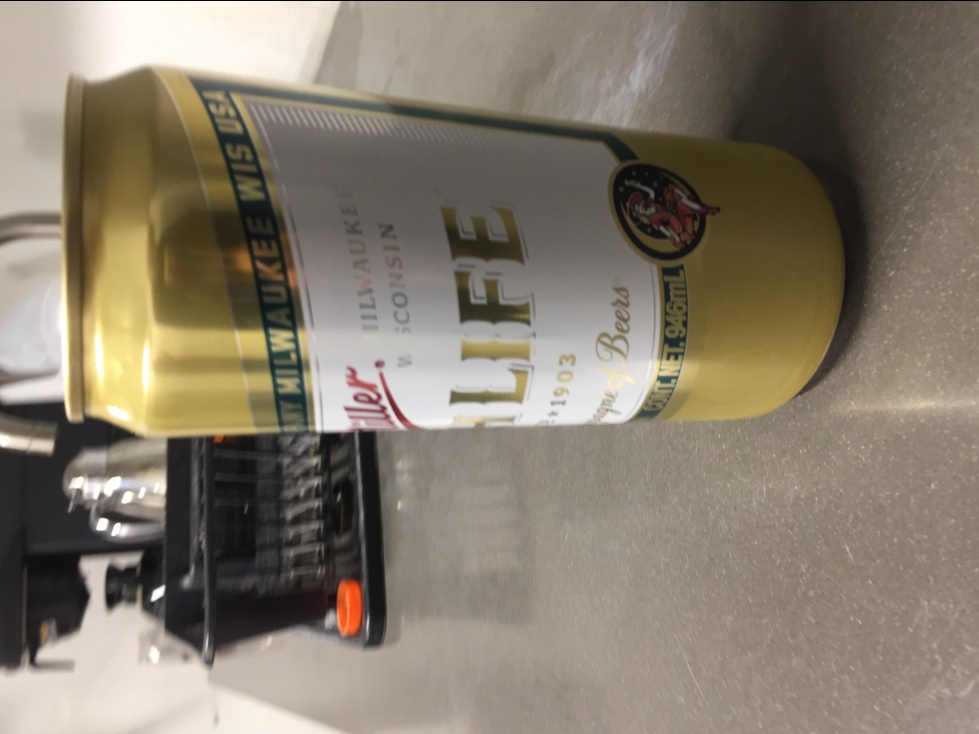miller: (58, 56, 857, 442)
